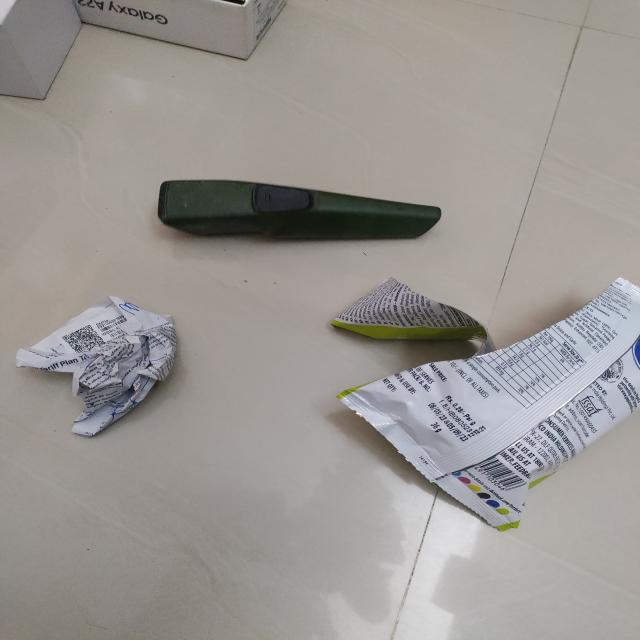paper: (0, 292, 224, 441)
plastic: (294, 273, 640, 512), (124, 123, 487, 261)
